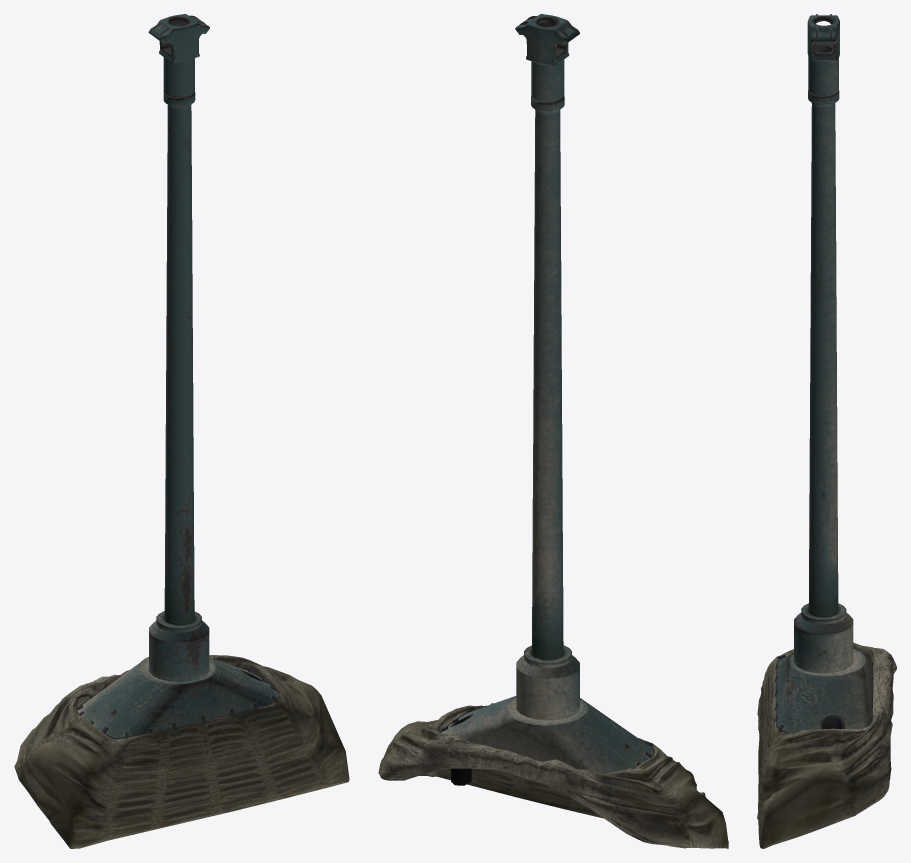
The model's file is Gun_01.glb.
3 renders of one model, left to right at view 1: azimuth 30°, elevation 25°; view 2: azimuth 150°, elevation 25°; view 3: azimuth 270°, elevation 25°, orthographic. The views are drawn at different scales.
Parts seen in each view (by area): view 1: set_0_group_0; view 2: set_0_group_0; view 3: set_0_group_0.
Part boxes in pixels (bbox=[...]): set_0_group_0: bbox=[14, 14, 349, 848]; set_0_group_0: bbox=[378, 14, 728, 848]; set_0_group_0: bbox=[757, 14, 896, 848].
Size of the model in its own units: 1.91 by 4.8 by 0.7982.
1 material, 1 textured.
